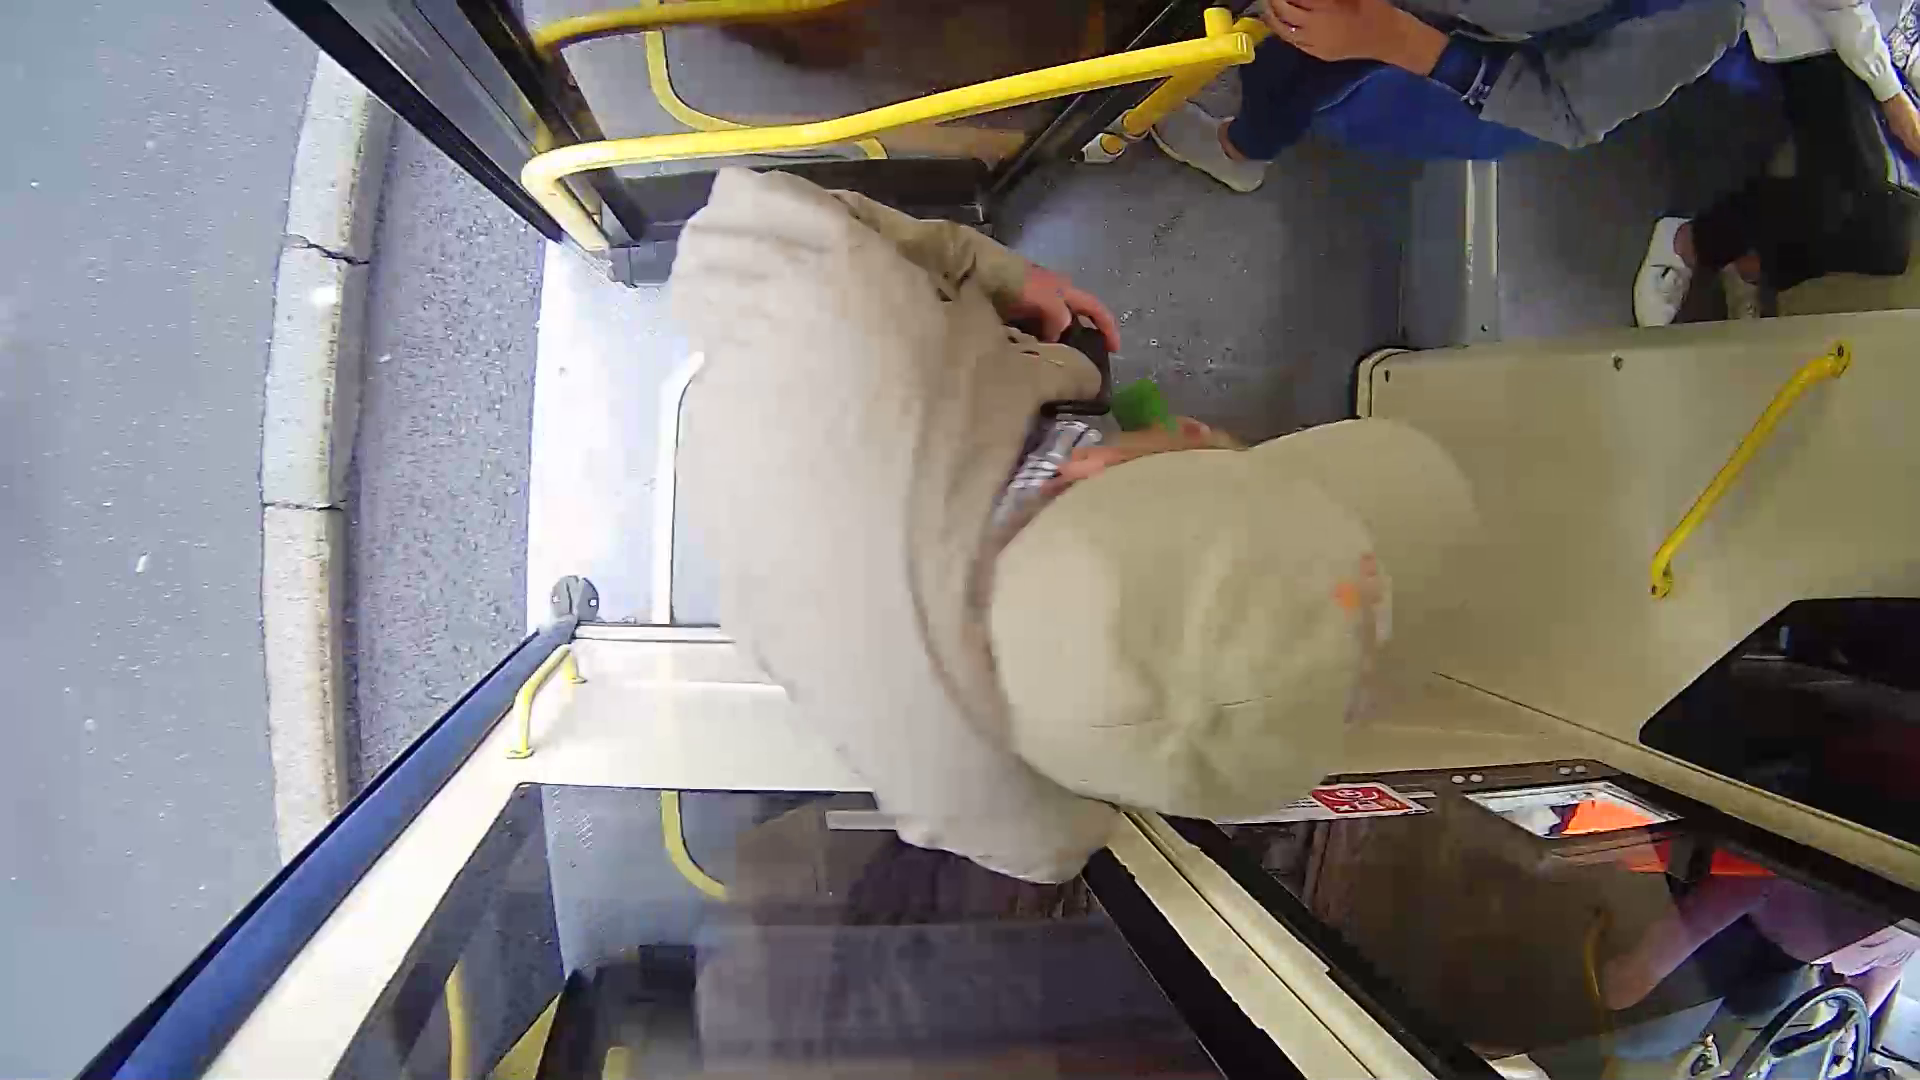person: (593, 173, 1515, 873)
